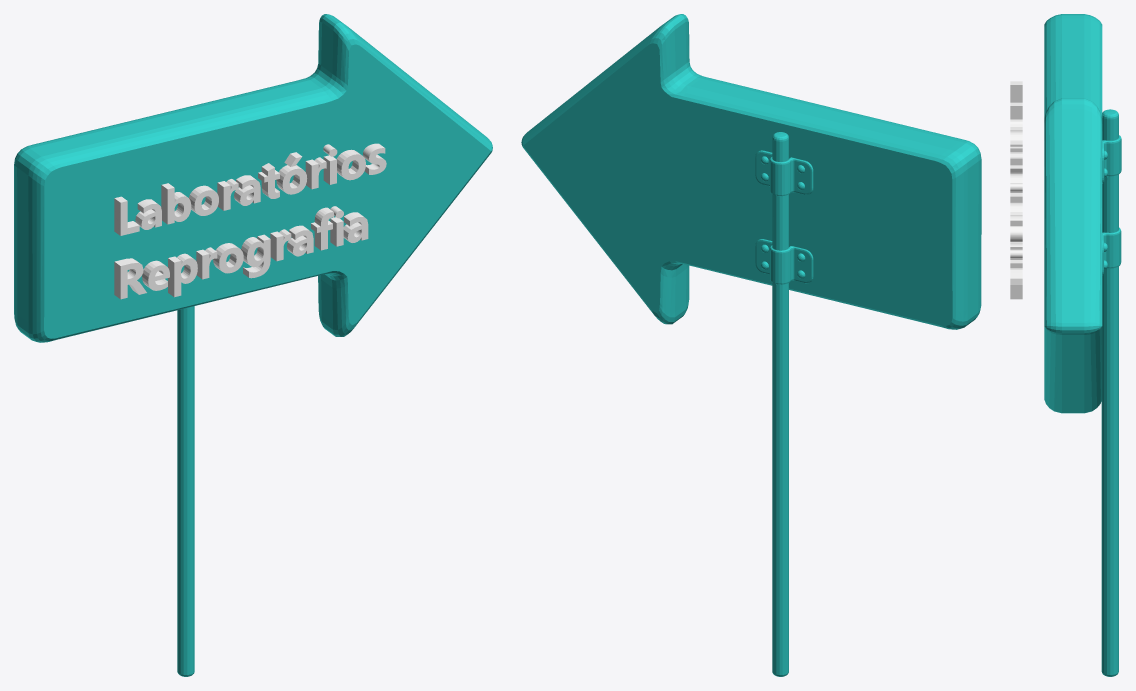
File: laboratios reprografia seta.glb
3 views of the same model, side by side, from view 1: azimuth 30°, elevation 25°; view 2: azimuth 150°, elevation 25°; view 3: azimuth 270°, elevation 25° (orthographic). The views are drawn at different scales.
Size of the model in its own units: 0.6481 by 0.8556 by 0.1351.
3 materials, 3 textured.
